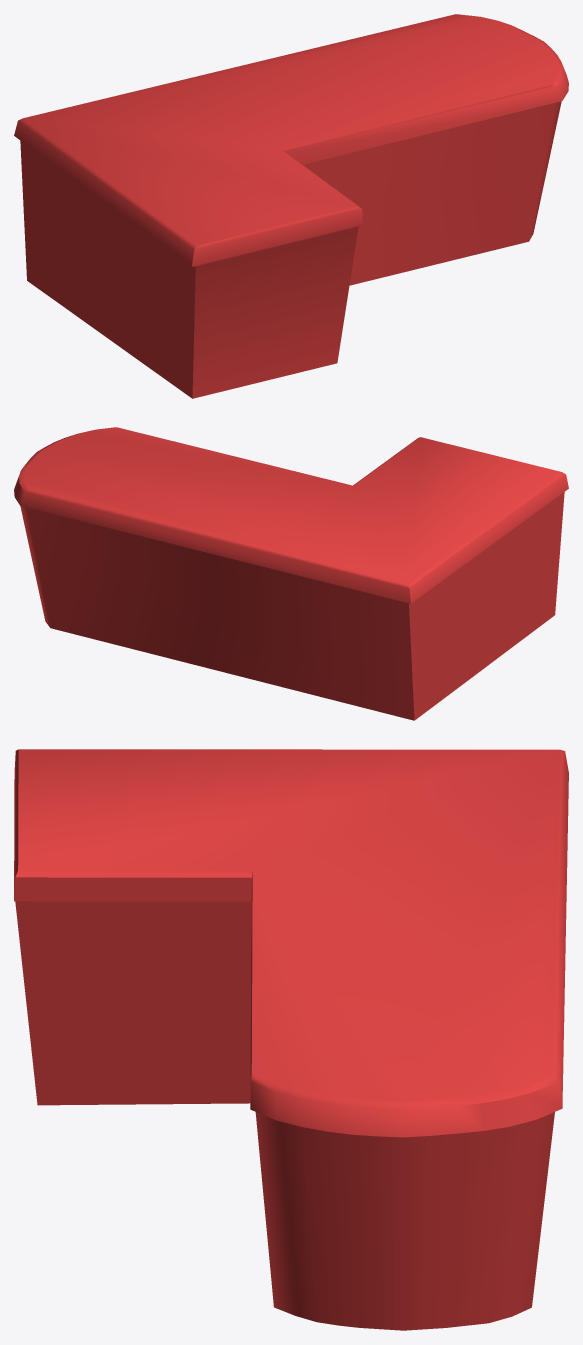
File: S_worktop_3.fbx
The picture shows the model from 3 angles, top to bottom: view 1: azimuth 30°, elevation 25°; view 2: azimuth 150°, elevation 25°; view 3: azimuth 270°, elevation 25°; orthographic projection. The views are drawn at different scales.
Visible parts, largest first — view 1: Worktop_low; view 2: Worktop_low; view 3: Worktop_low.
Part boxes in pixels (x1,y1,x2,y2): Worktop_low: [14, 14, 568, 398]; Worktop_low: [14, 427, 568, 720]; Worktop_low: [14, 749, 568, 1330].
Size of the model in its own units: 3.36 by 1.06 by 2.15.
